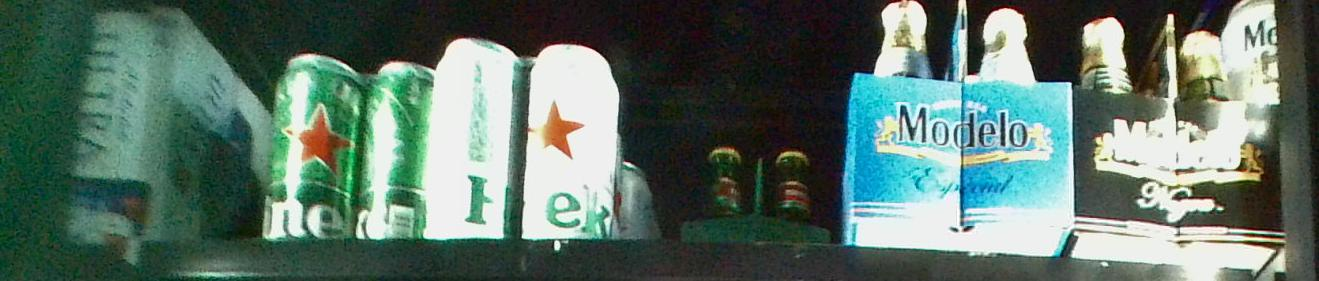bottle: (850, 1, 1072, 258), (1075, 10, 1283, 266), (429, 34, 618, 240), (267, 50, 423, 239), (679, 136, 834, 247)
